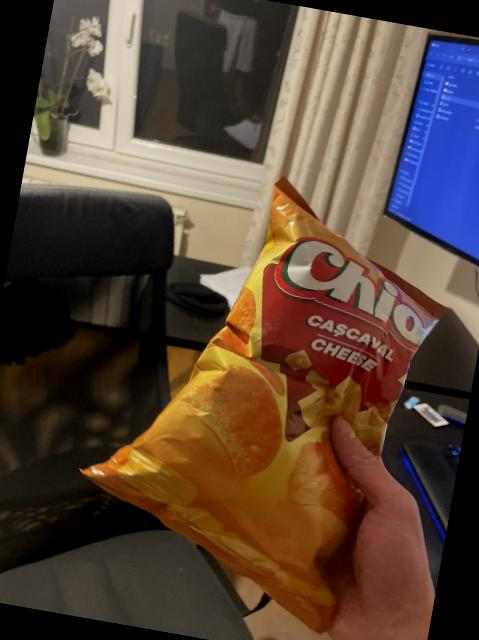Chio Cascaval 125g: (64, 160, 453, 638)
